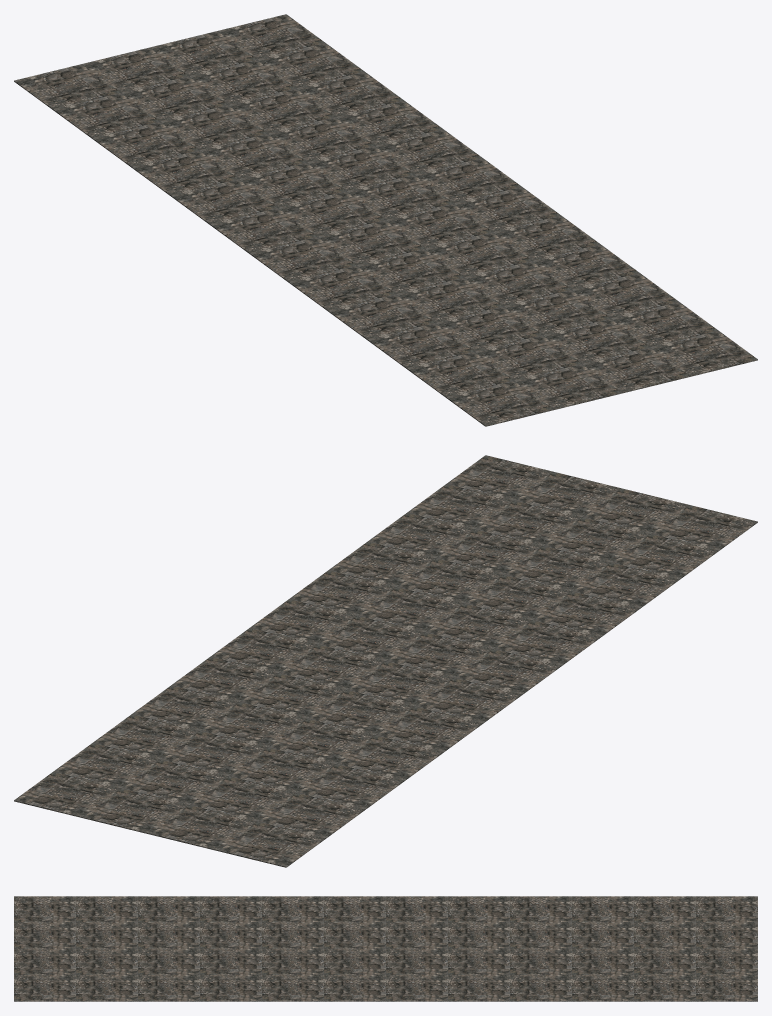
Rendered from colonial-yard-east-cap.glb.
3 views of the same model, one above another, from view 1: azimuth 30°, elevation 25°; view 2: azimuth 150°, elevation 25°; view 3: azimuth 270°, elevation 25° (orthographic). The views are drawn at different scales.
Parts seen in each view (by area): view 1: colonial-yard-east-cap.glb; view 2: colonial-yard-east-cap.glb; view 3: colonial-yard-east-cap.glb.
Boxes of the visible parts, x1,y1,x2,y2 form: colonial-yard-east-cap.glb: [14, 14, 757, 426]; colonial-yard-east-cap.glb: [14, 455, 757, 867]; colonial-yard-east-cap.glb: [14, 896, 757, 1001].
Size of the model in its own units: 20 by 0.0765 by 60.
1 material, 1 textured.
